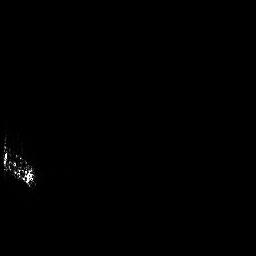ship: (1, 136, 38, 189)
